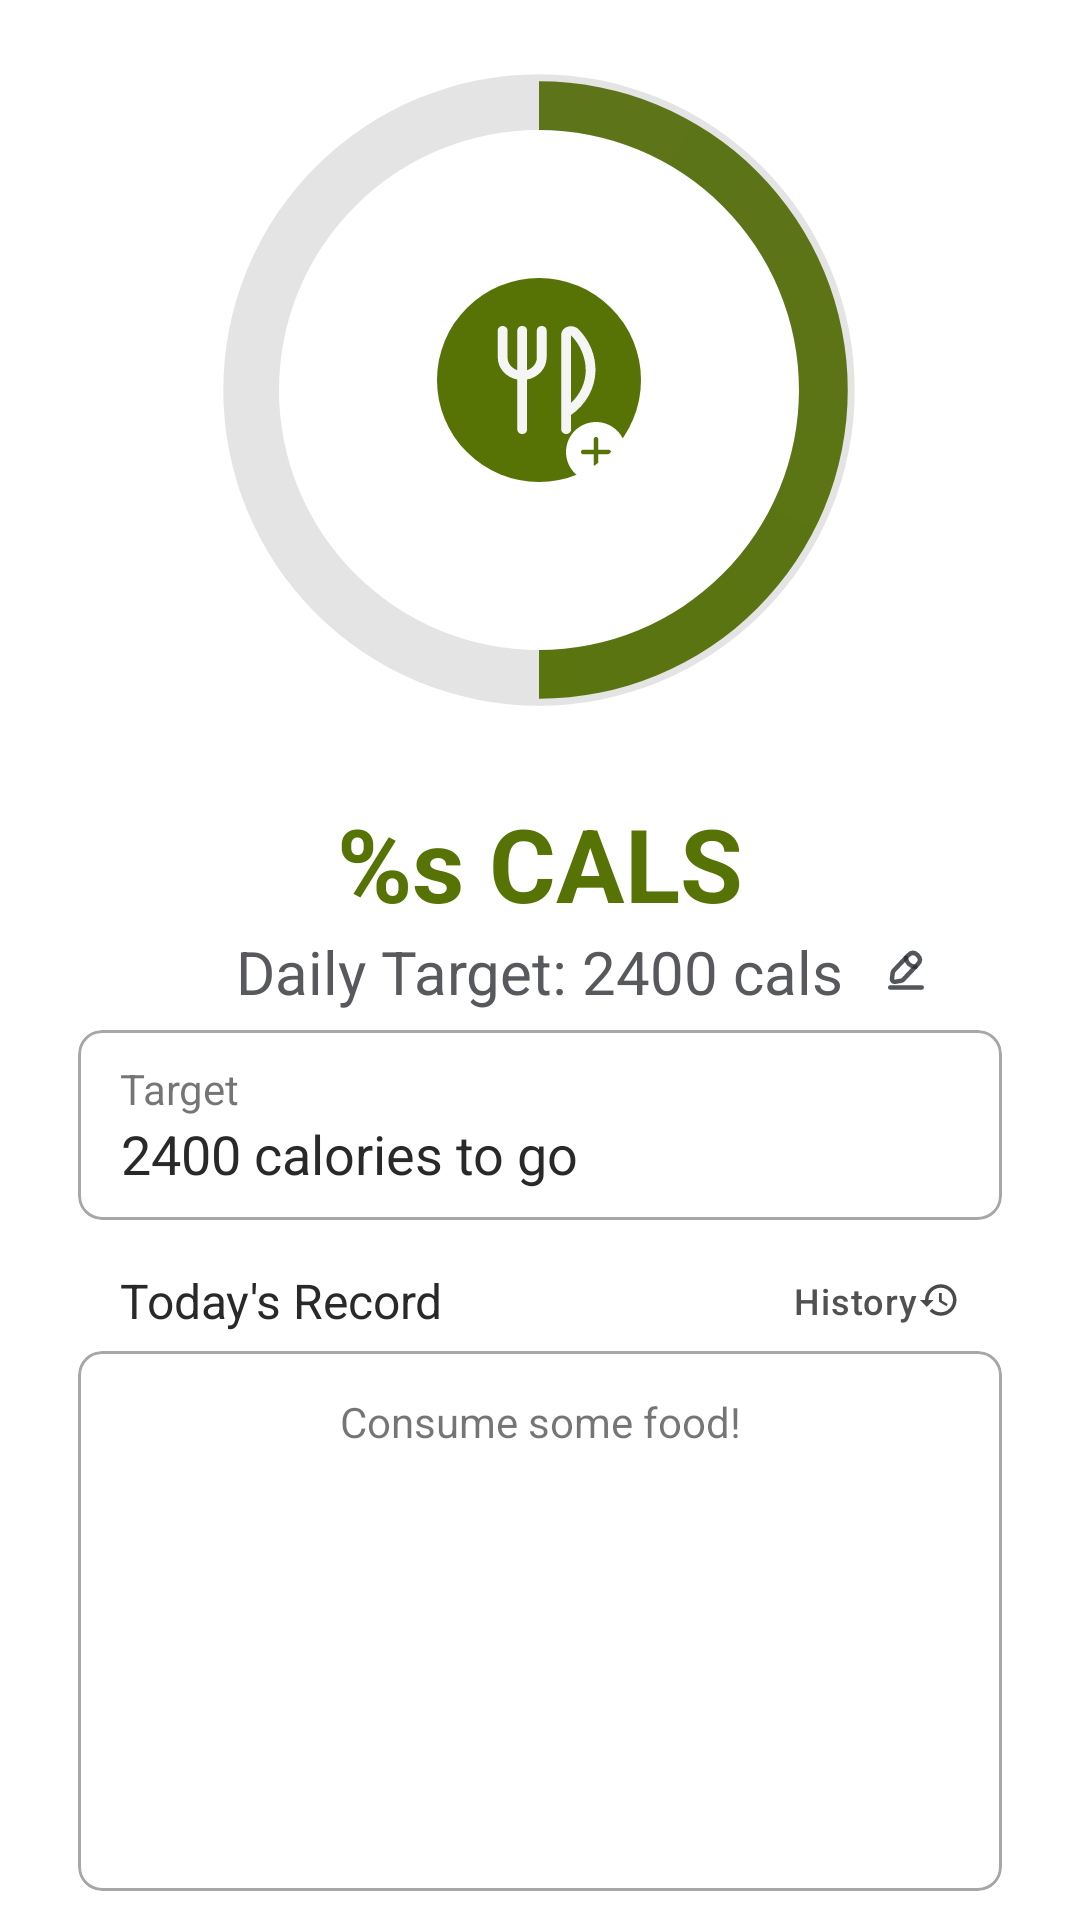

Icon click points for this 1080x1920 phone screenshot, format point (x, y):
add calories: point (539, 380)
edit calories: point (906, 970)
